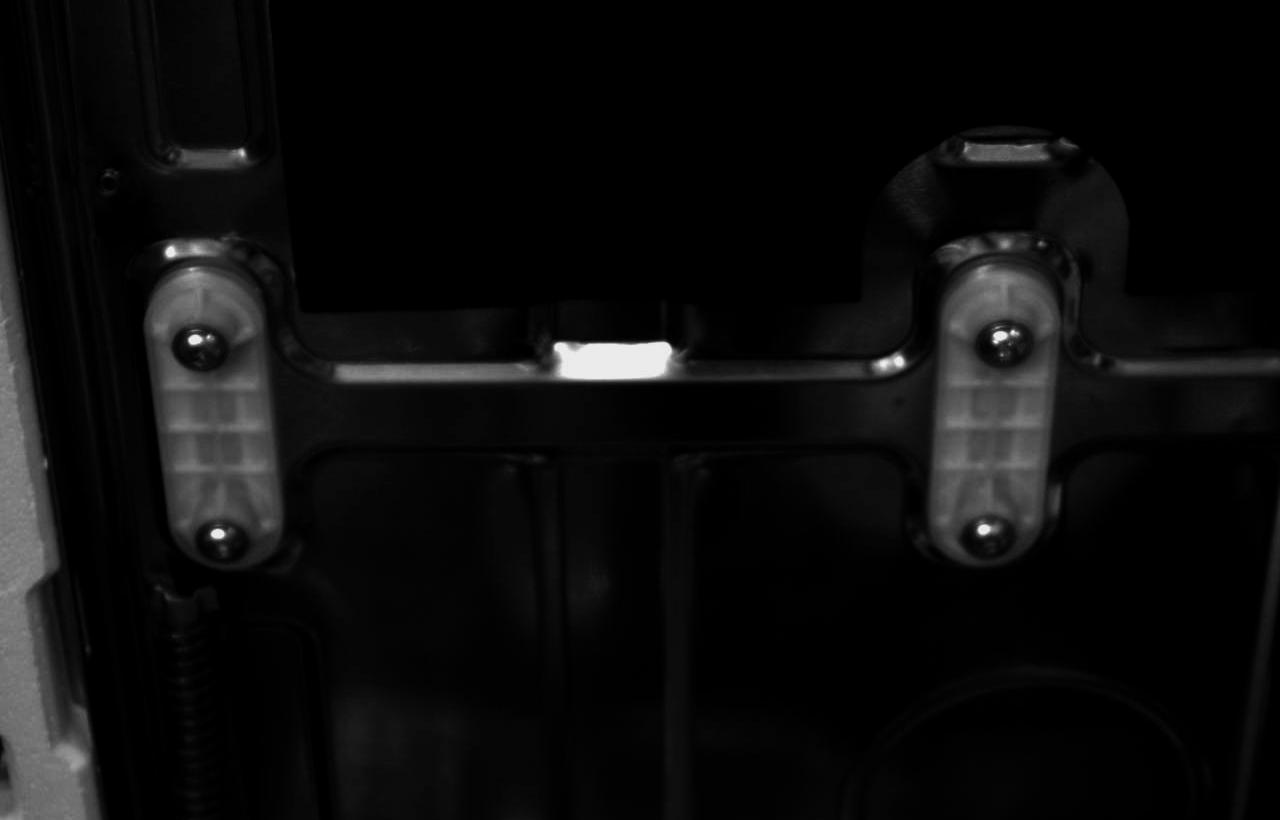vida-ok: (154, 307, 241, 385), (959, 307, 1047, 380), (185, 506, 262, 570), (948, 508, 1024, 567)
